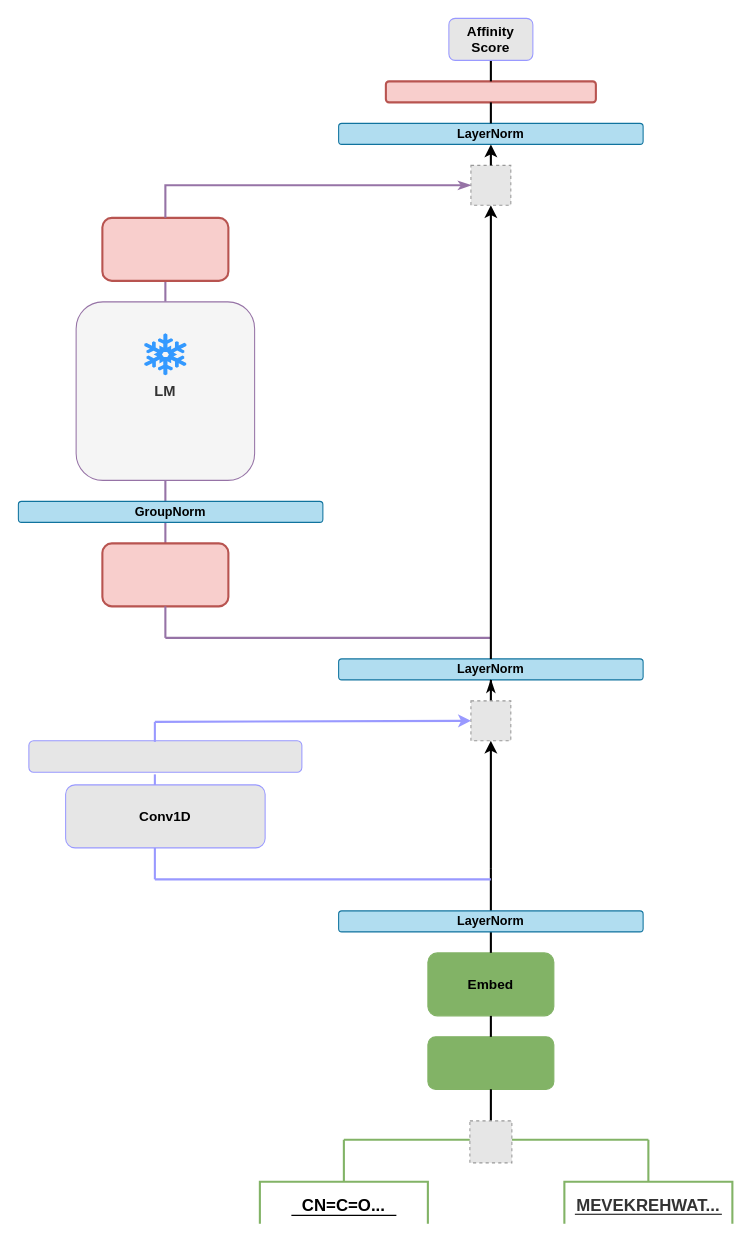
This 752x1243 diagram has some shape labels left out. Grey dashed boxes stand in for pictures. The shapes that lost their labels are listed below. From the top down, each one's centre as x and y in pixels, then its label:
At pixel 490 91: "Head".
At pixel 165 248: "Write Layer".
At pixel 165 574: "Read Layer".
At pixel 165 756: "ReLU".
At pixel 490 1062: "Tokenization".
